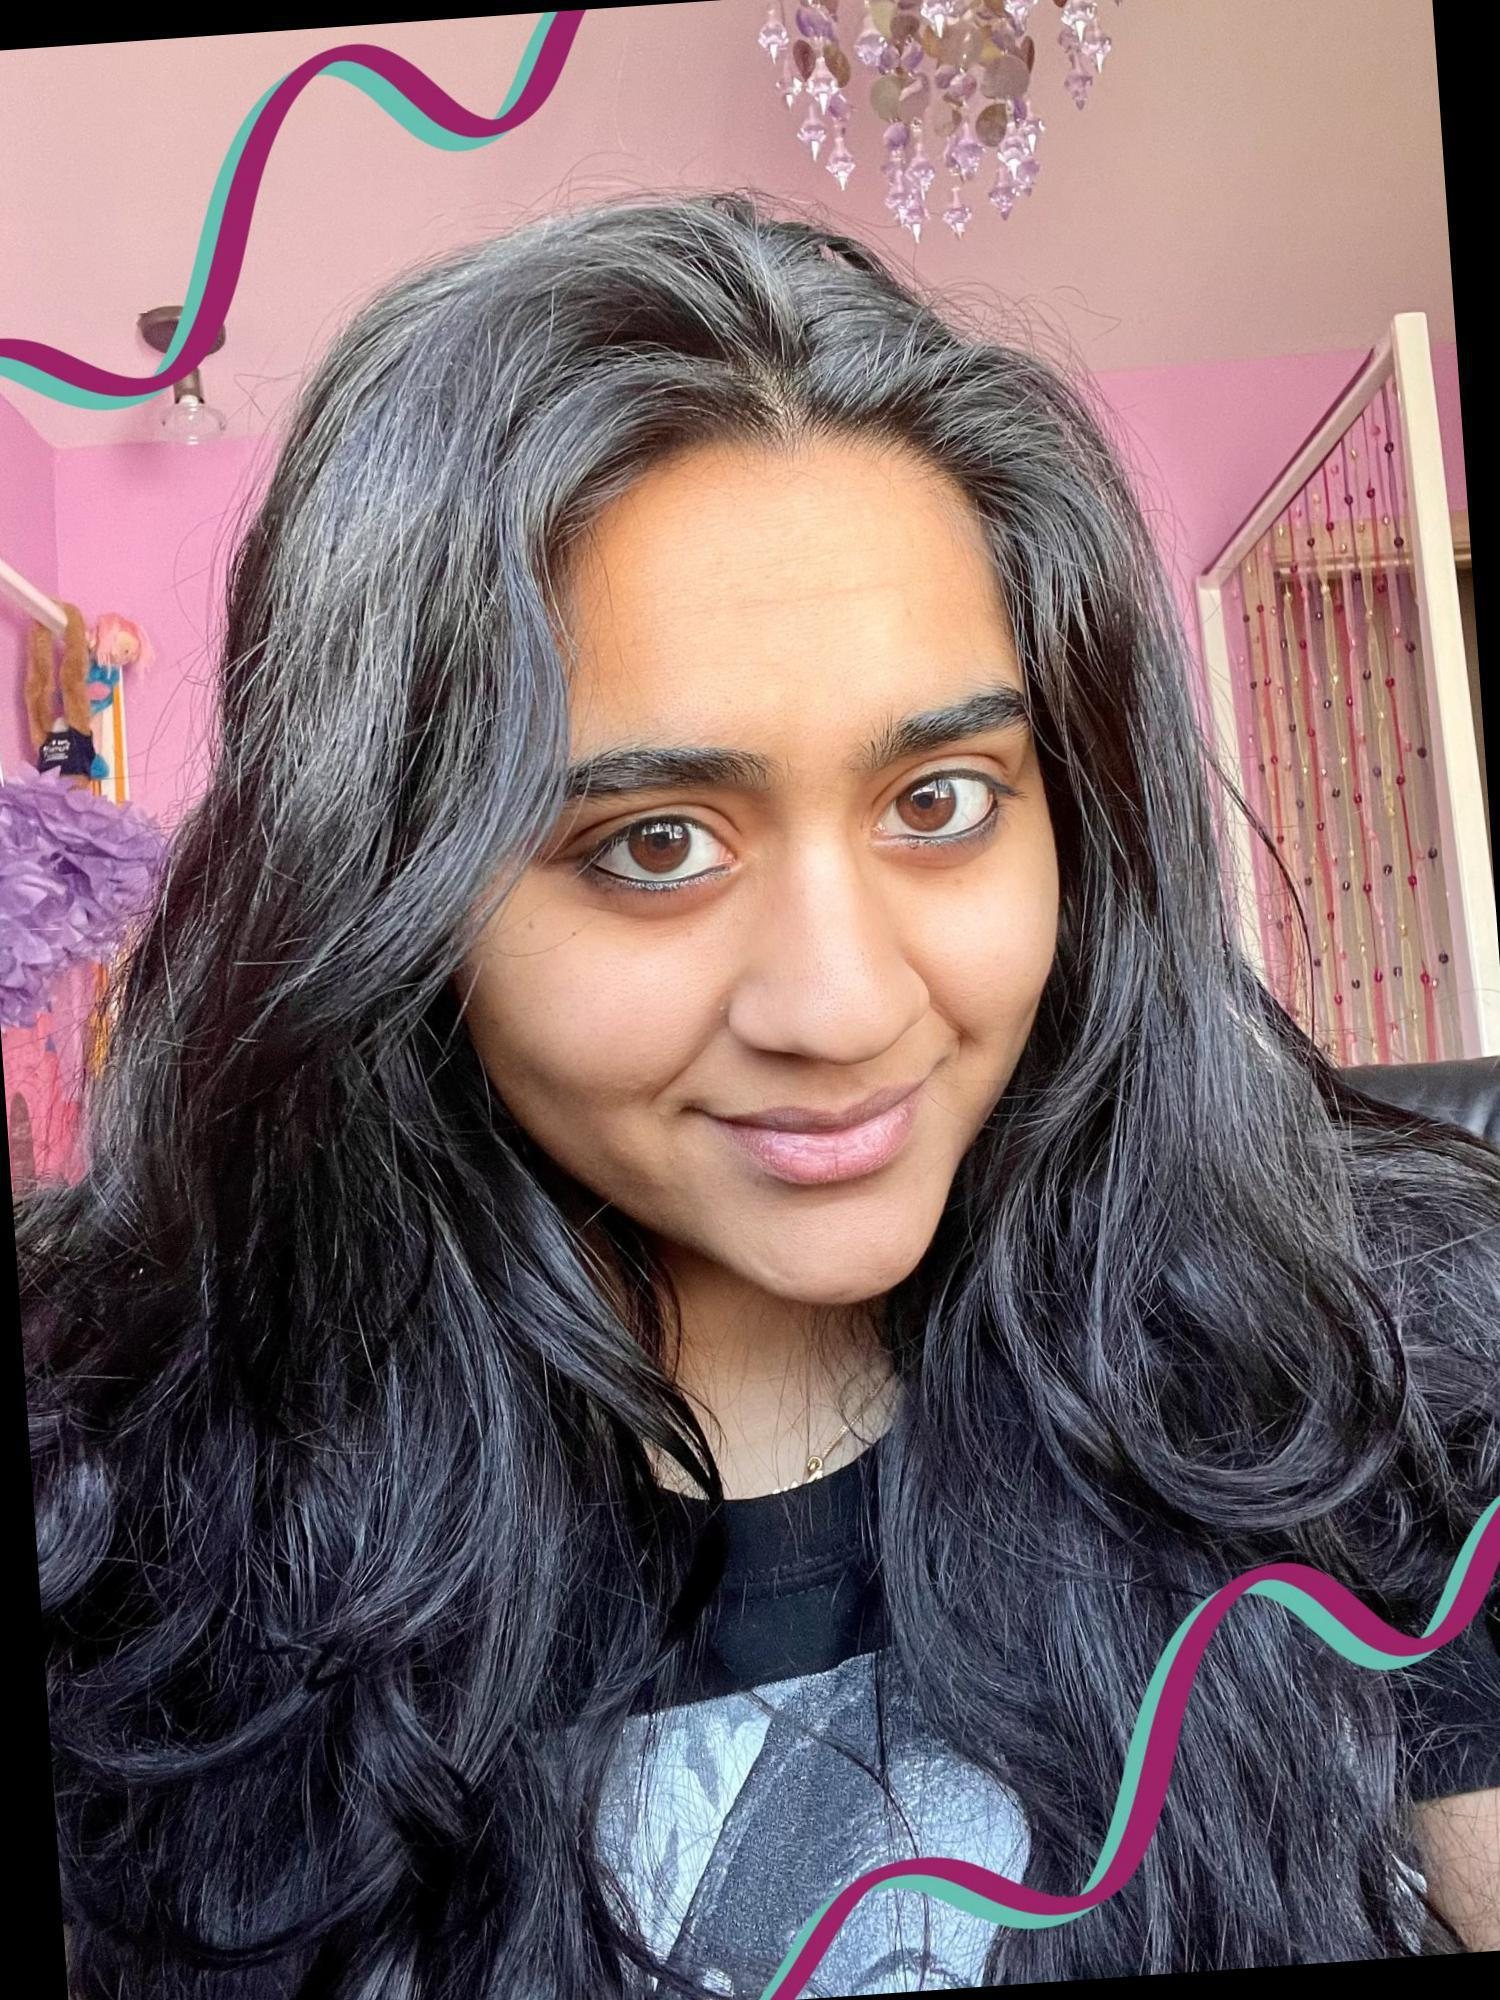Sober: (503, 491, 1060, 1249)
